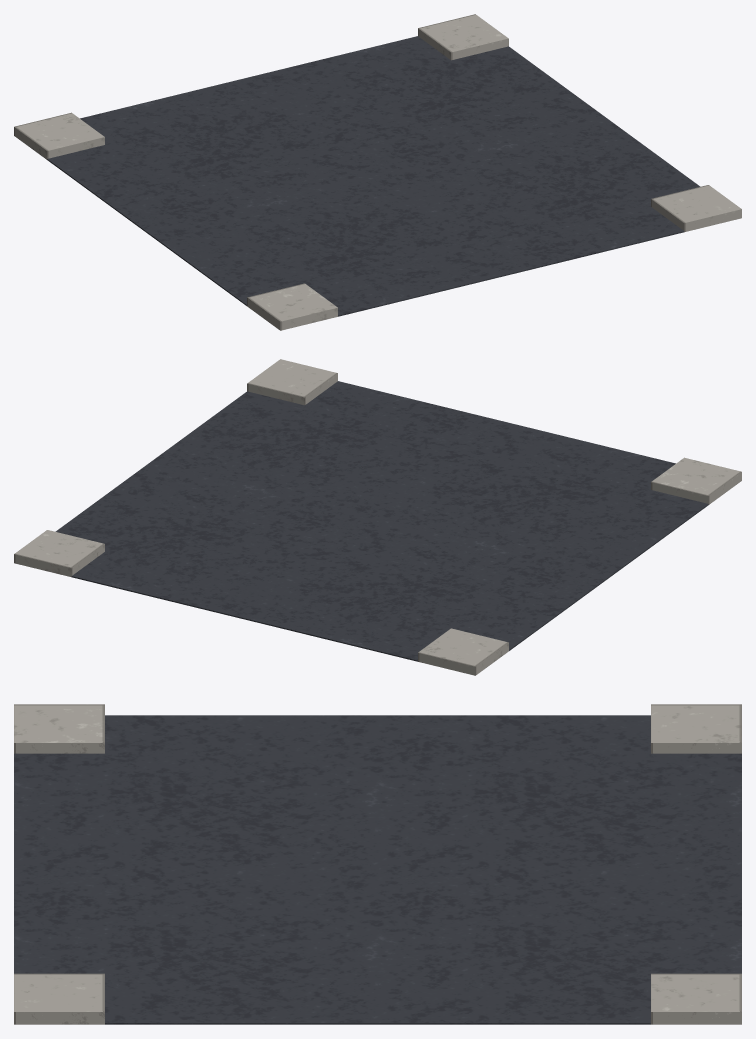
The model's file is road_cross.glb.
The picture shows the model from 3 angles, top to bottom: view 1: azimuth 30°, elevation 25°; view 2: azimuth 150°, elevation 25°; view 3: azimuth 270°, elevation 25°; orthographic projection. The views are drawn at different scales.
Parts seen in each view (by area): view 1: Ground; view 2: Ground; view 3: Ground.
Boxes of the visible parts, <box> form: Ground: <box>14,14,741,330</box>; Ground: <box>14,359,741,675</box>; Ground: <box>14,704,741,1024</box>.
Size of the model in its own units: 8 by 0.15 by 8.
Materials: 2 (2 with a texture image).
